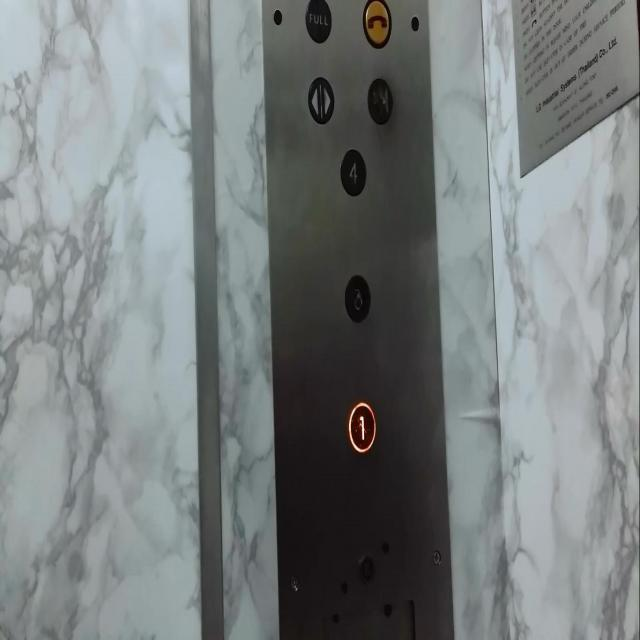1: (348, 401, 375, 454)
3: (342, 272, 372, 324)
4: (339, 147, 367, 198)
blur: (366, 75, 394, 123)
call: (361, 0, 392, 50)
open: (308, 76, 334, 125)
text_FULL: (304, 0, 332, 45)
